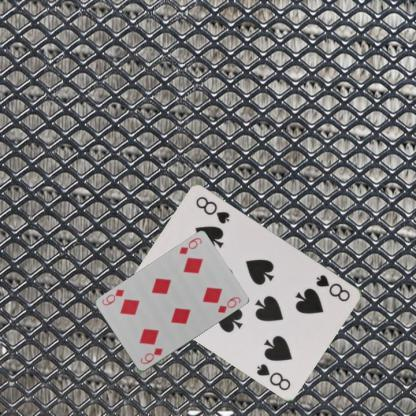6d: (177, 235, 203, 256), (138, 346, 164, 366)
8s: (314, 272, 352, 302)
